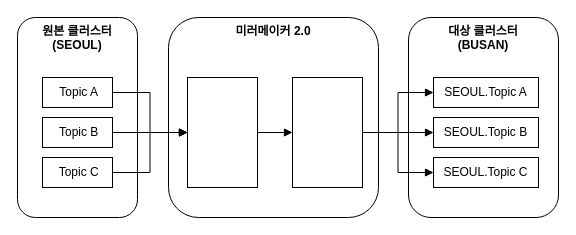
This 576x235 diagram has some shape labels left out. The shapes that lost their labels are listed below. From the top down, each one's centre as x and y in pixels, then its label:
At point (222, 132): "소스 커넥터 (컨슈머)".
At point (327, 132): "커넥트 프로듀서".
